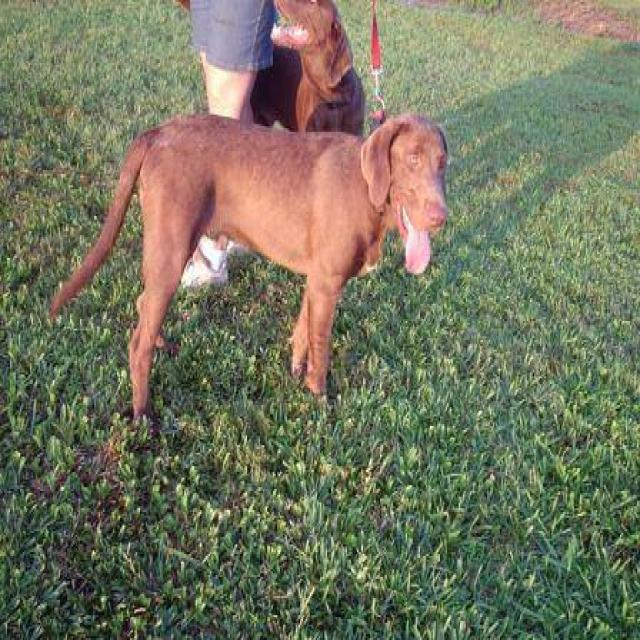dog: (49, 107, 448, 428), (174, 0, 365, 290)
